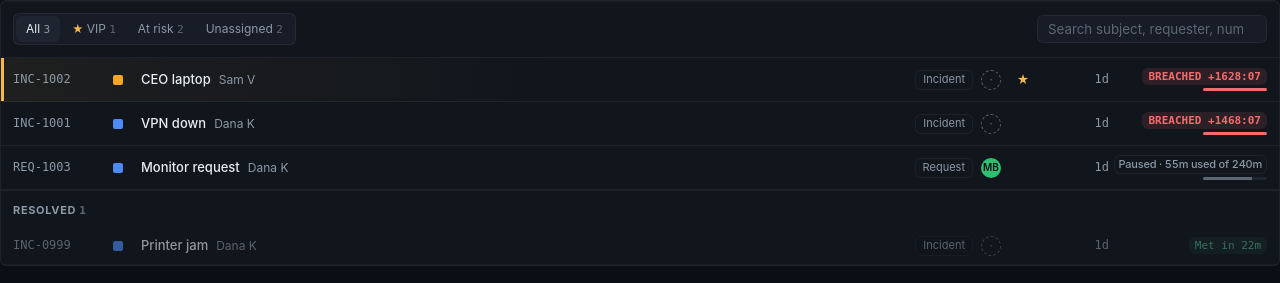
Scenario: search matches subject, requester, or number and applies to resolved
The width and height of the screenshot is (1280, 283).
Type "printer" into the search field named "Search tickets" at (1152, 29), box [1037, 15, 1267, 43]
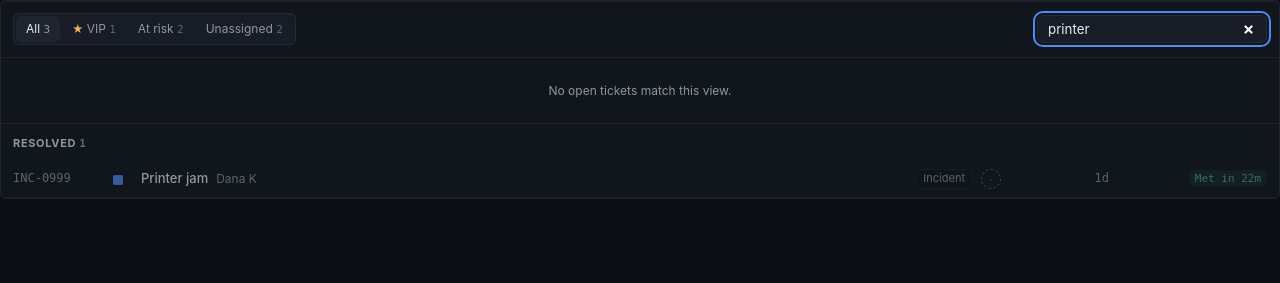
Expected: the text "Printer jam" is shown, [141, 169, 208, 188]
Expected: no elements with test id "queue-row" are shown
Expected: the text "No open tickets match this view." is shown, [548, 82, 732, 99]
